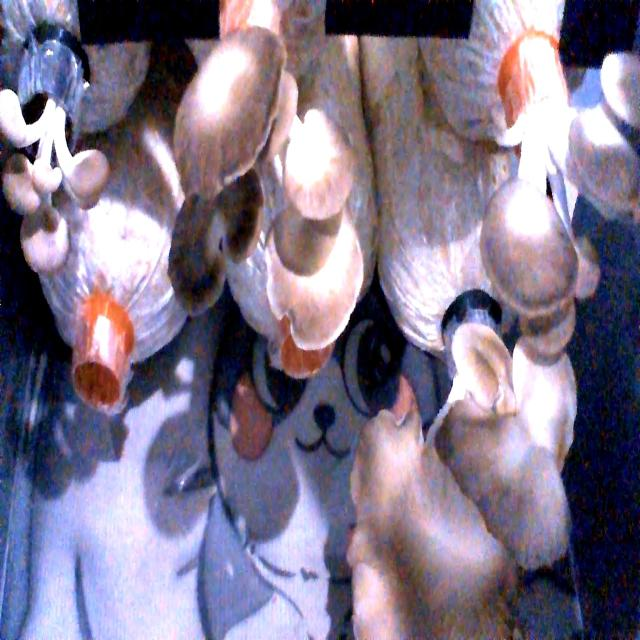big: (353, 327, 578, 640), (169, 45, 367, 357), (488, 24, 640, 351)
nfound: (68, 342, 148, 422)
small: (0, 80, 120, 290)
